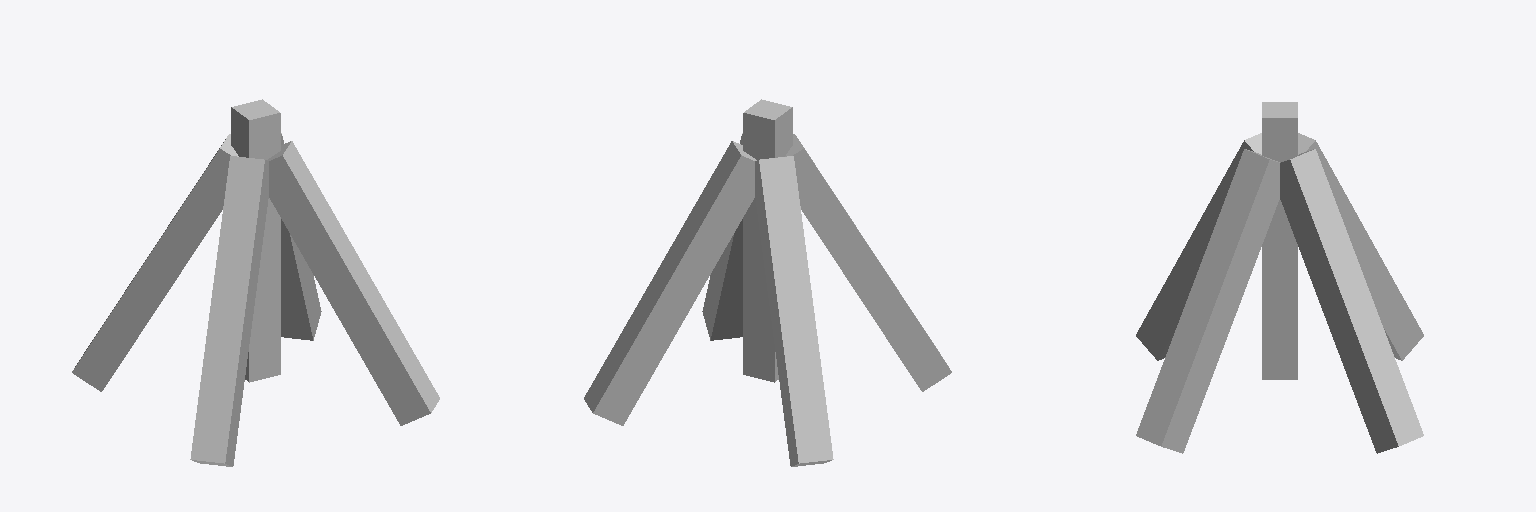
The model's file is caravan_target_bottom.obj.
3 views of the same model, side by side, from view 1: azimuth 30°, elevation 25°; view 2: azimuth 150°, elevation 25°; view 3: azimuth 270°, elevation 25° (orthographic).
Visible parts, largest first — view 1: side_beam_c, side_beam_b, side_beam_a, mid_beam_bottom, side_beam_d; view 2: side_beam_d, side_beam_a, side_beam_b, mid_beam_bottom, side_beam_c; view 3: side_beam_d, side_beam_c, mid_beam_bottom, side_beam_a, side_beam_b.
Boxes of the visible parts, <box> form: side_beam_c: <box>267,141,439,425</box>; side_beam_b: <box>190,156,268,466</box>; side_beam_a: <box>72,134,238,391</box>; mid_beam_bottom: <box>231,99,280,382</box>; side_beam_d: <box>281,133,321,340</box>; side_beam_d: <box>584,141,756,425</box>; side_beam_a: <box>755,156,833,466</box>; side_beam_b: <box>785,134,951,391</box>; mid_beam_bottom: <box>743,99,792,382</box>; side_beam_c: <box>702,133,742,340</box>; side_beam_d: <box>1280,149,1423,453</box>; side_beam_c: <box>1136,149,1279,453</box>; mid_beam_bottom: <box>1262,102,1297,379</box>; side_beam_a: <box>1298,133,1423,360</box>; side_beam_b: <box>1136,133,1261,360</box>.
Bounding box in the file's own units: 0.9983 × 1.11 × 0.9983.